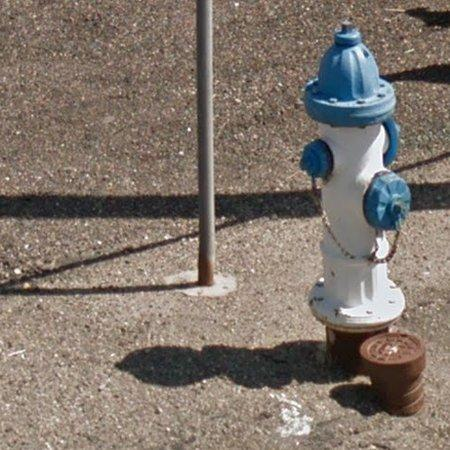a fire hydrant: (301, 23, 412, 370)
